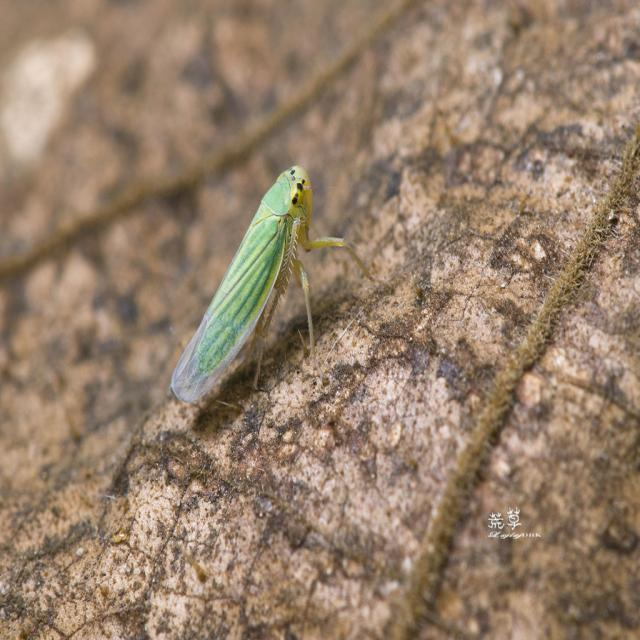Yechan: (165, 150, 338, 414)
